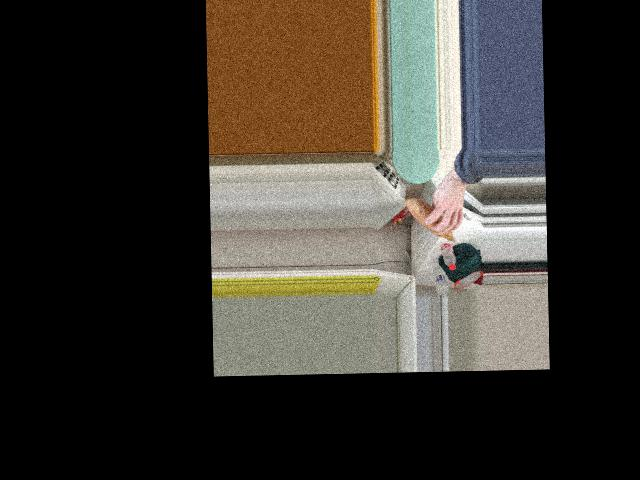sweet_potato: (408, 197, 459, 240)
